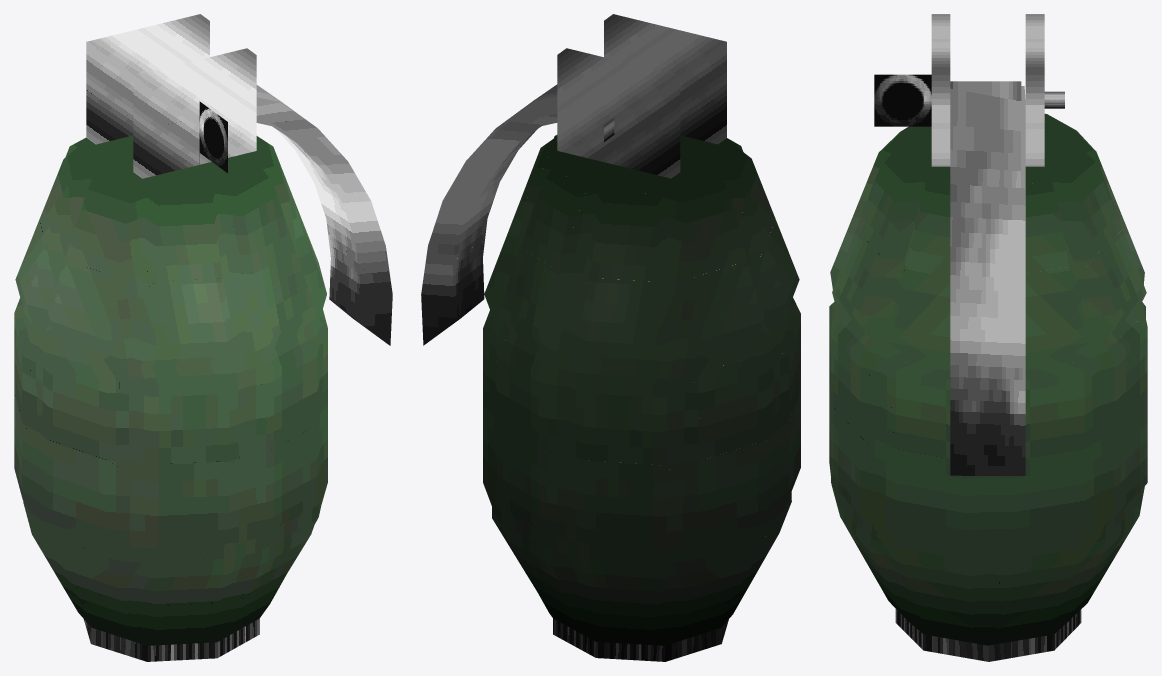
File: GgrenadeZ.obj
The picture shows the model from 3 angles, left to right: view 1: azimuth 30°, elevation 25°; view 2: azimuth 150°, elevation 25°; view 3: azimuth 270°, elevation 25°; orthographic projection.
Size of the model in its own units: 440 by 715 by 355.
7 materials, 7 textured.
